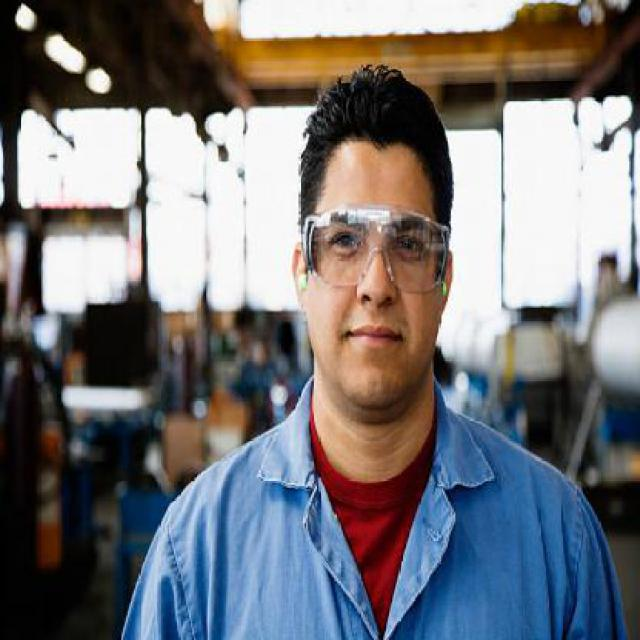glass: (292, 198, 455, 307)
head: (281, 53, 467, 312)
person: (86, 53, 627, 635)
